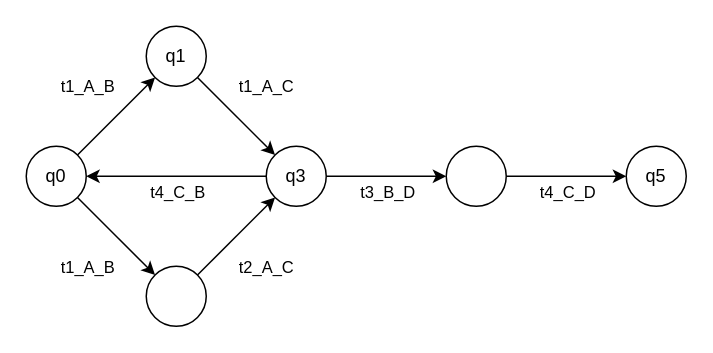
The diagram is 713 pixels wide and 353 high, and some of its shapes have lost their labels. Here are the shapes that lost their labels. From the top down, the box of each, then its label:
(445, 145, 506, 206): q4
(145, 265, 206, 326): q2
